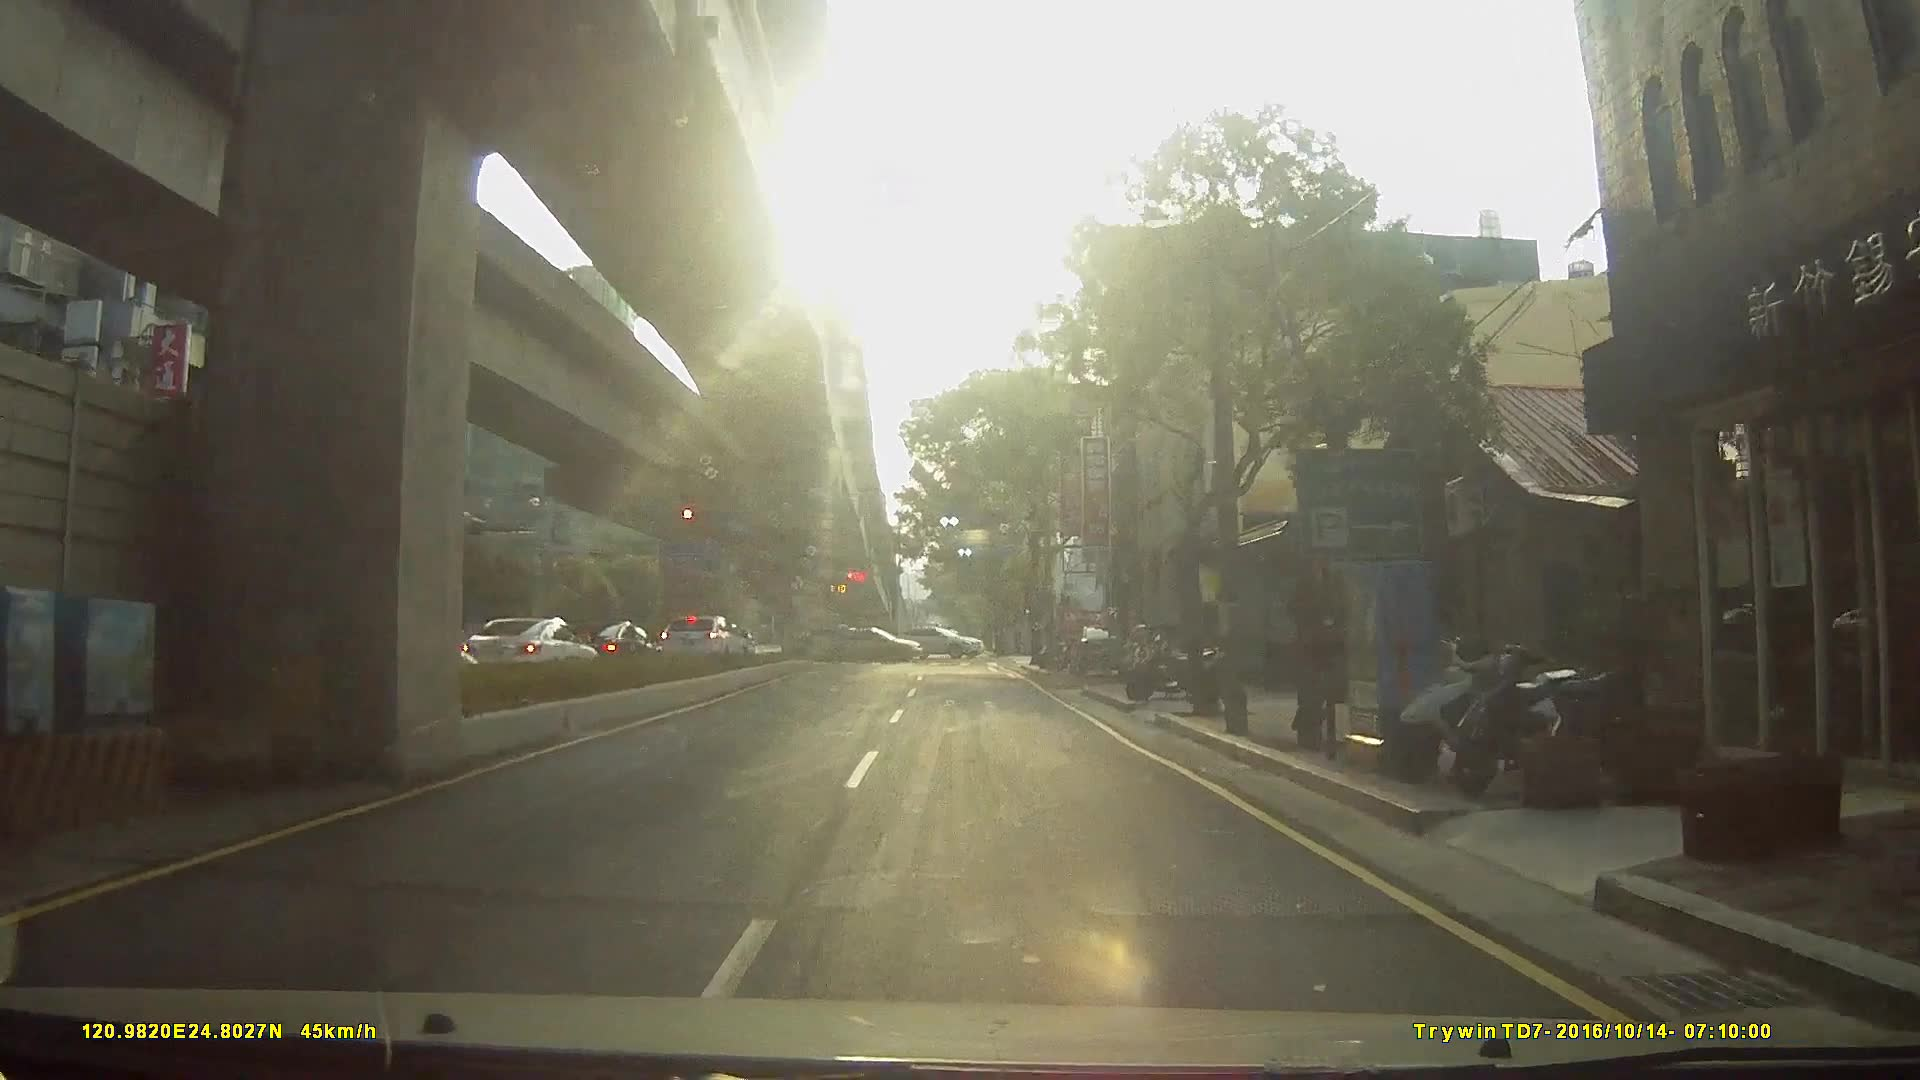vehicle: (448, 616, 593, 684), (555, 620, 661, 675), (651, 615, 750, 666), (824, 625, 928, 663), (1065, 618, 1131, 674), (898, 625, 989, 659)
